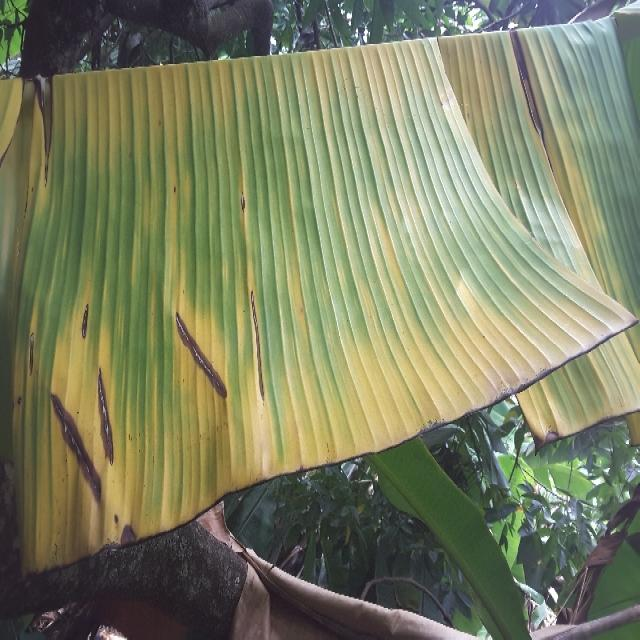Bract_mosaic_virus: (180, 544, 494, 640)
Cordana: (0, 33, 636, 571)
